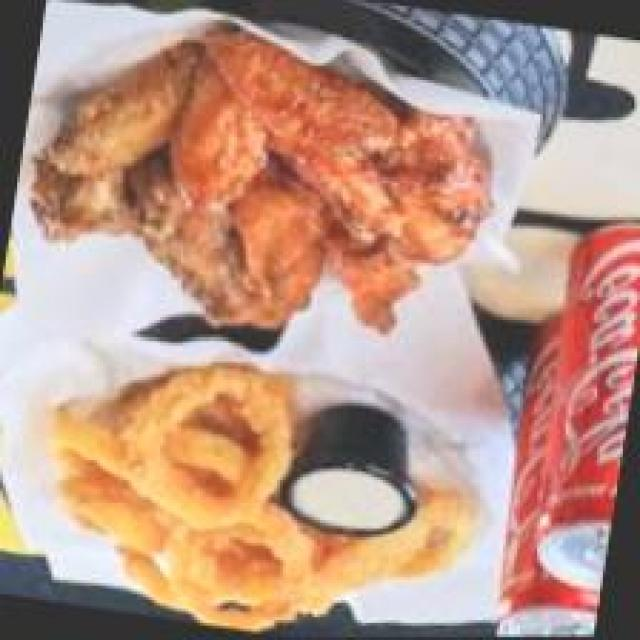Chicken Wings: (16, 1, 518, 376)
Onion Rings: (11, 337, 503, 640)
